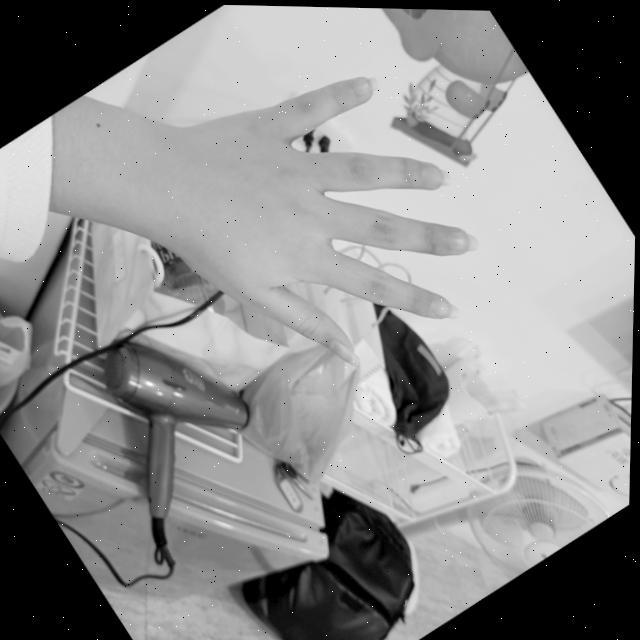no-gloves: (116, 10, 524, 429)
